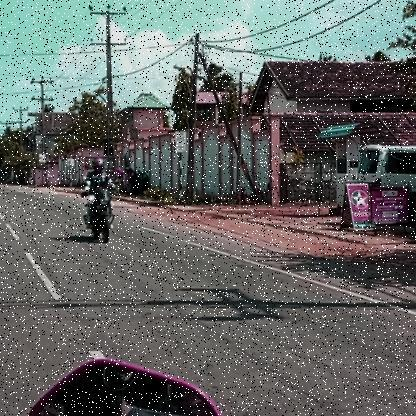motorcycle: (79, 186, 122, 244)
